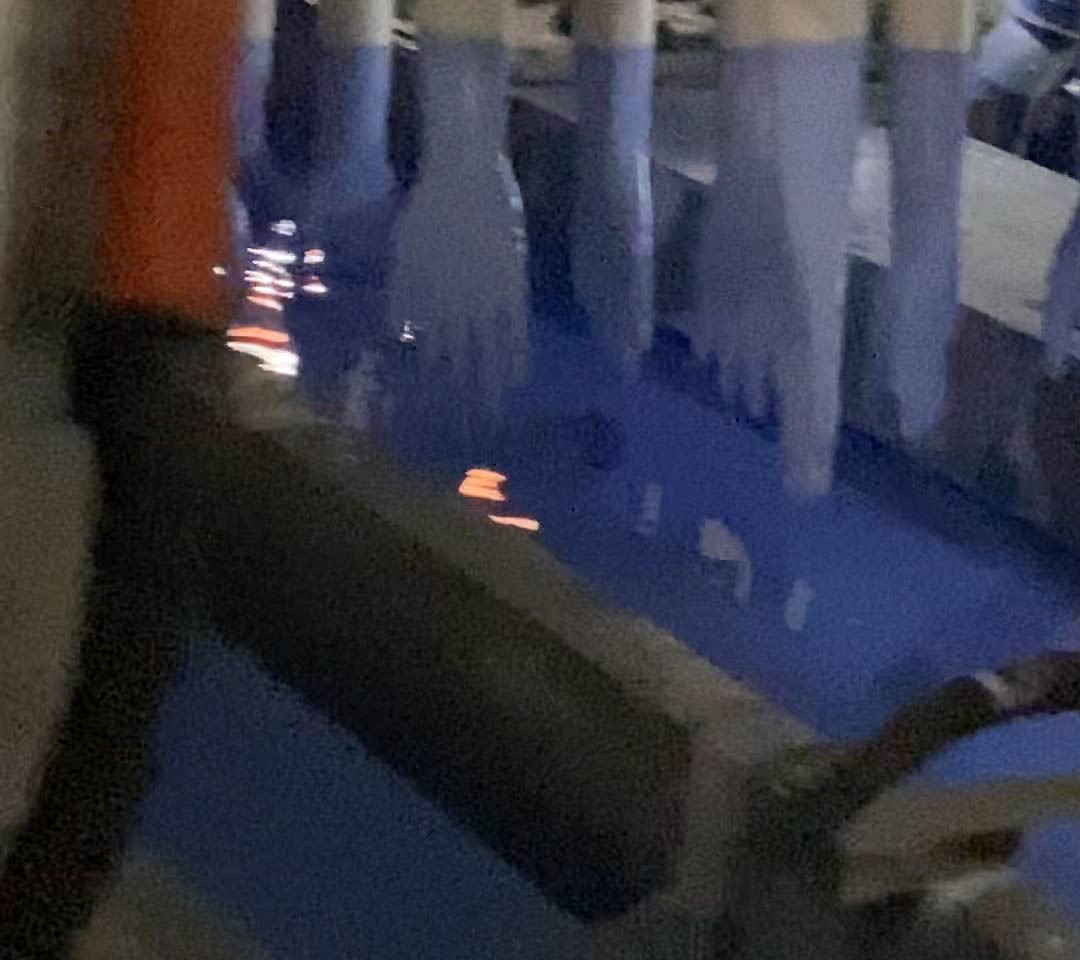glove: (390, 34, 531, 424), (683, 47, 807, 420), (876, 41, 963, 447), (564, 38, 653, 384)
